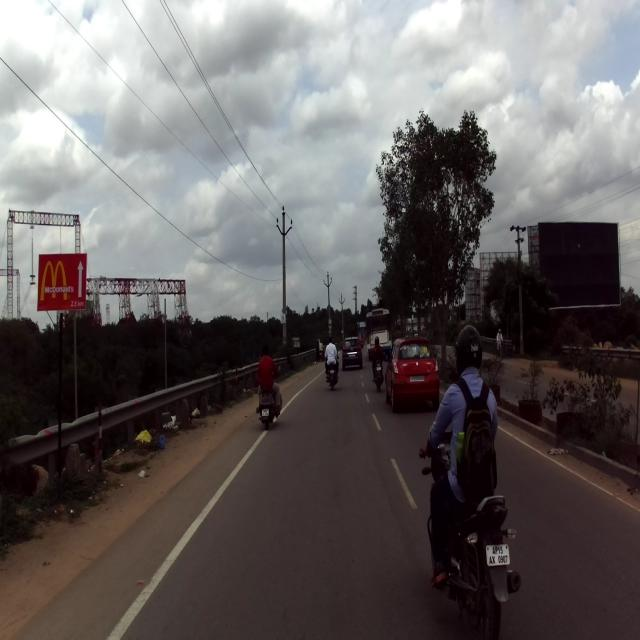Car_Maruti-Suzuki: (385, 335, 440, 413)
motorcycle_bajaj: (419, 430, 520, 638)
